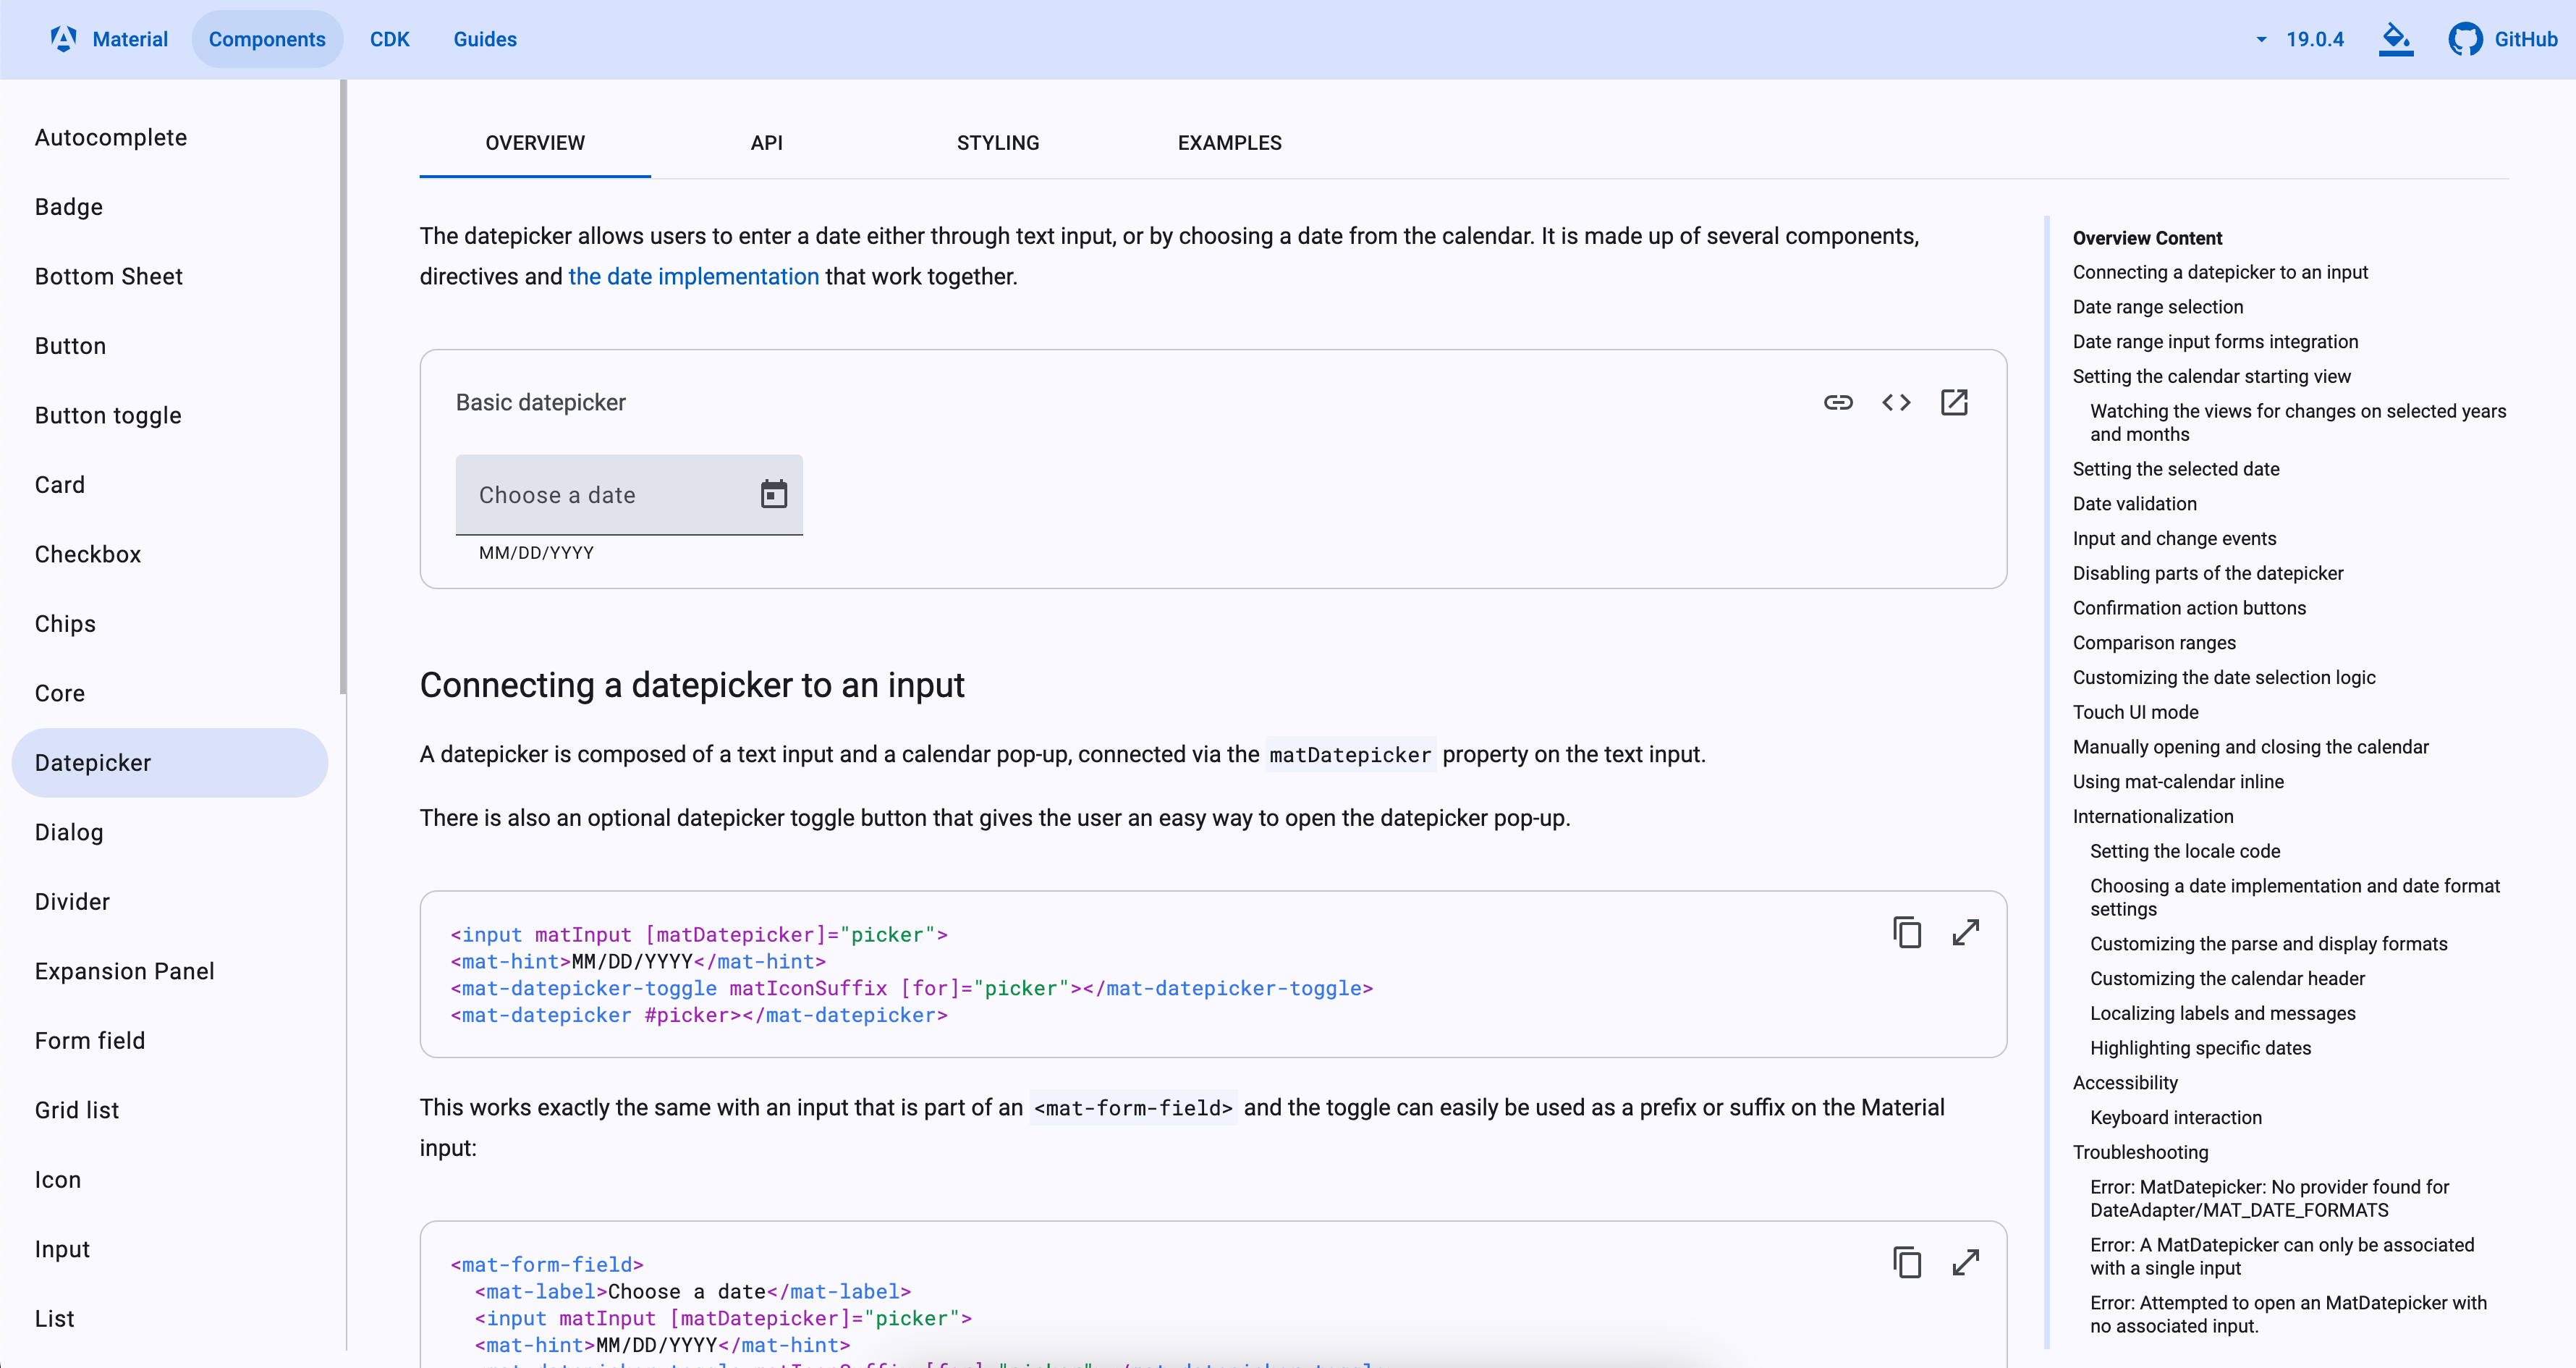input: (453, 451, 806, 538)
label: (479, 484, 635, 506)
